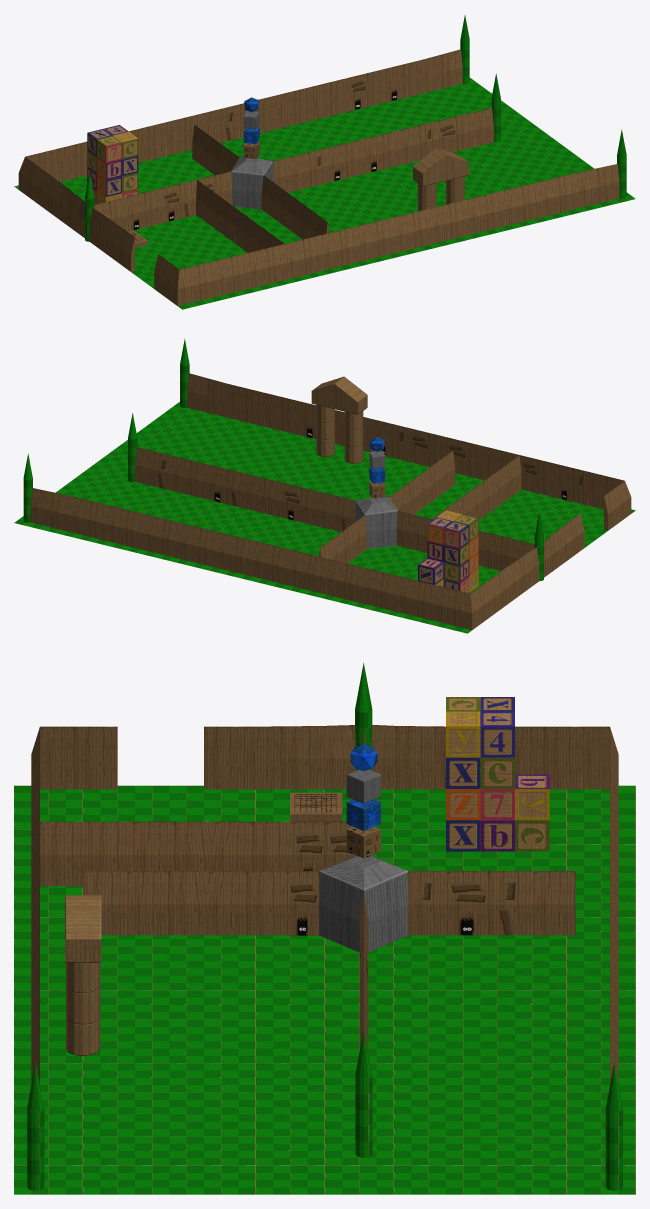
The model's file is test-zone2.glb.
The picture shows the model from 3 angles, top to bottom: view 1: azimuth 30°, elevation 25°; view 2: azimuth 150°, elevation 25°; view 3: azimuth 270°, elevation 25°; orthographic projection. The views are drawn at different scales.
Visible parts, largest first — view 1: Frame_0.002; view 2: Frame_0.002; view 3: Frame_0.002.
Part boxes in pixels (x1,y1,x2,y2): Frame_0.002: [14, 15, 635, 309]; Frame_0.002: [14, 338, 635, 633]; Frame_0.002: [14, 663, 635, 1194].
Bounding box in the file's own units: 141 × 30.37 × 90.
1 material, 1 textured.
